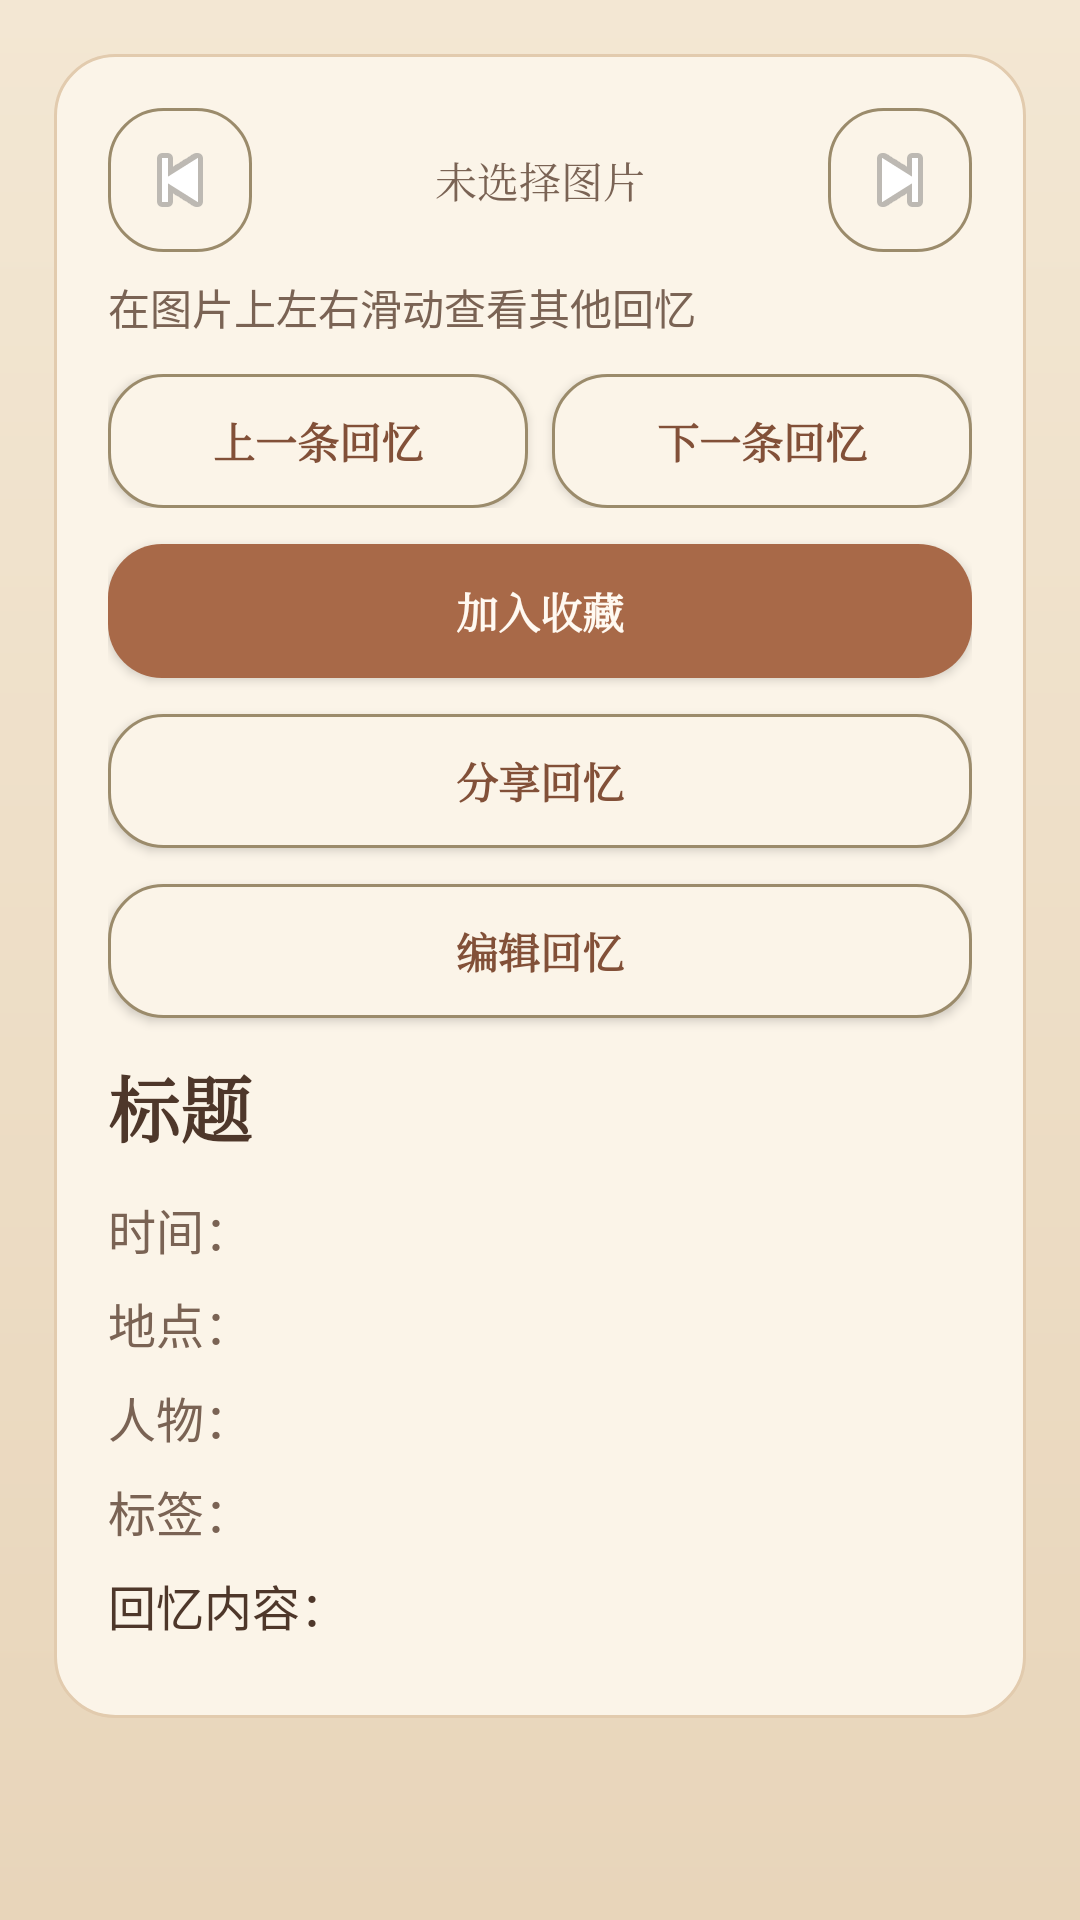

Named icons in this screenshot (1080w x 1920h) and their bounding boxes, [x1=x1, y1=y1, x2=x2, y2=y2]:
上一张图片: [x1=108, y1=108, x2=252, y2=252]
下一张图片: [x1=828, y1=108, x2=972, y2=252]
